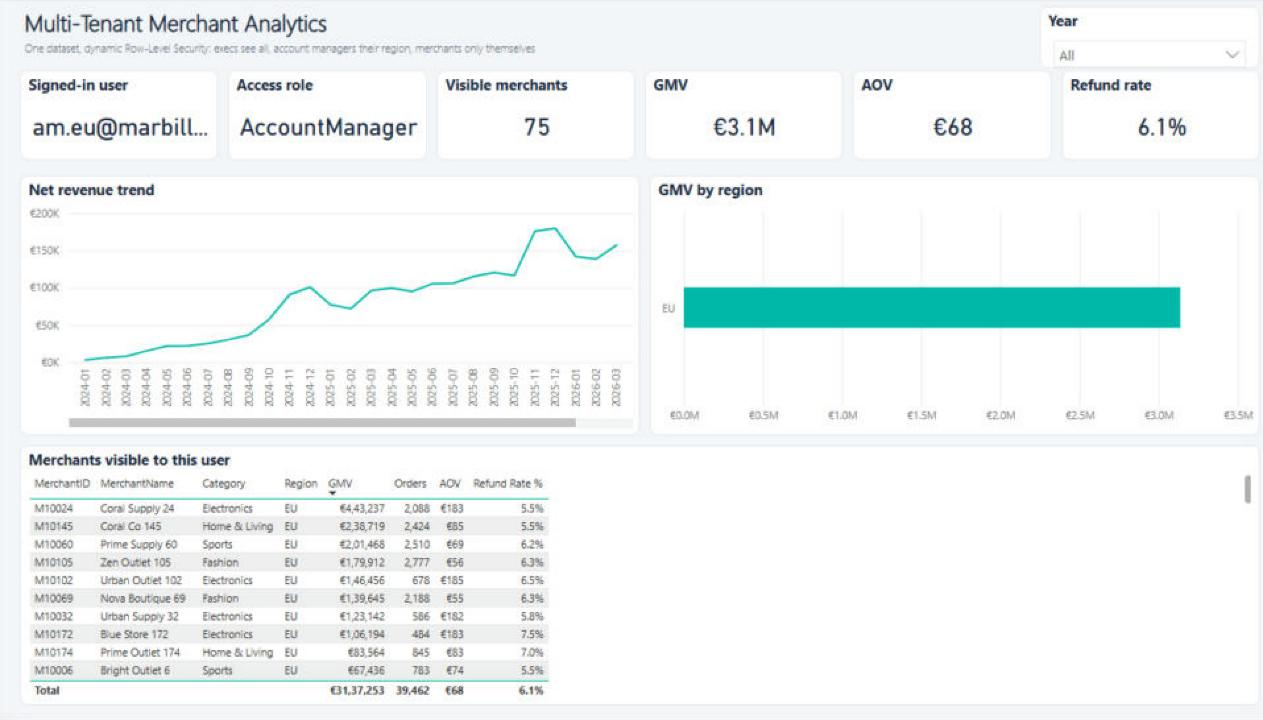

Layout of this report page (visuals, bound fields, positions):
{"tool":"powerbi","page":{"name":"Merchant Performance","canvas":[1280,720],"ordinal":0},"visuals":[{"type":"textbox","box":[20,2,1000,70],"z":0},{"type":"slicer","title":"Year","fields":{"Values":["dim_date.Year"]},"box":[1040,6,220,62],"z":1000},{"type":"card","title":"Signed-in user","fields":{"Values":["_Measures.Current User"]},"box":[20,70,198.3,90],"z":2000},{"type":"card","title":"Access role","fields":{"Values":["_Measures.Viewer Role"]},"box":[228.3,70,198.3,90],"z":3000},{"type":"card","title":"Visible merchants","fields":{"Values":["_Measures.Visible Merchants"]},"box":[436.7,70,198.3,90],"z":4000},{"type":"card","title":"GMV","fields":{"Values":["_Measures.GMV"]},"box":[645,70,198.3,90],"z":5000},{"type":"card","title":"AOV","fields":{"Values":["_Measures.AOV"]},"box":[853.3,70,198.3,90],"z":6000},{"type":"card","title":"Refund rate","fields":{"Values":["_Measures.Refund Rate %"]},"box":[1061.7,70,198.3,90],"z":7000},{"type":"lineChart","title":"Net revenue trend","fields":{"Category":["dim_date.YearMonth"],"Y":["_Measures.Net Revenue"]},"box":[20,175,620,260],"z":8000},{"type":"clusteredBarChart","title":"GMV by region","fields":{"Category":["dim_merchant.Region"],"Y":["_Measures.GMV"]},"box":[650,175,610,260],"z":9000},{"type":"tableEx","title":"Merchants visible to this user","fields":{"Values":["dim_merchant.MerchantID","dim_merchant.MerchantName","dim_merchant.Category","dim_merchant.Region","_Measures.GMV","_Measures.Orders","_Measures.AOV","_Measures.Refund Rate %"]},"box":[20,445,1240,260],"z":10000}]}

Visuals, with their boxes in screenshot pixels (x1, y1, x2, y2), scaled from the page's 1280x720 canvas onto the 1263x720 screenshot:
textbox: [left=20, top=2, right=1006, bottom=72]
"Year" slicer: [left=1026, top=6, right=1243, bottom=68]
"Signed-in user" card: [left=20, top=70, right=215, bottom=160]
"Access role" card: [left=225, top=70, right=421, bottom=160]
"Visible merchants" card: [left=431, top=70, right=627, bottom=160]
"GMV" card: [left=636, top=70, right=832, bottom=160]
"AOV" card: [left=842, top=70, right=1038, bottom=160]
"Refund rate" card: [left=1048, top=70, right=1243, bottom=160]
"Net revenue trend" lineChart: [left=20, top=175, right=632, bottom=435]
"GMV by region" clusteredBarChart: [left=641, top=175, right=1243, bottom=435]
"Merchants visible to this user" tableEx: [left=20, top=445, right=1243, bottom=705]
